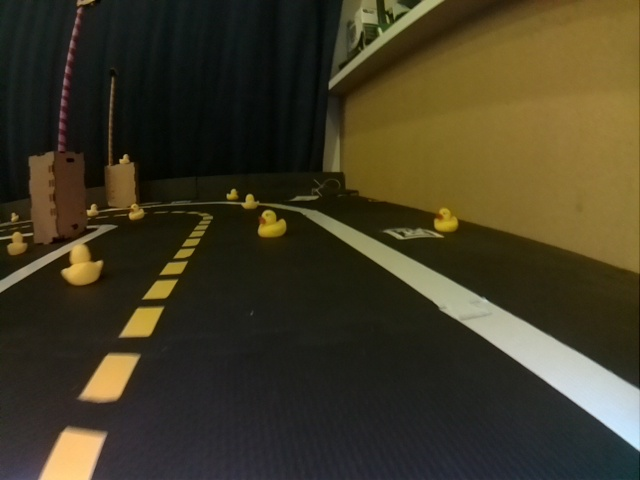Duckie: (63, 245, 102, 285), (258, 210, 286, 237), (434, 209, 458, 229), (7, 233, 27, 255), (241, 195, 260, 209), (129, 204, 143, 219), (227, 189, 237, 199), (87, 205, 97, 214), (122, 155, 130, 164), (11, 215, 20, 222)
QR code: (386, 228, 444, 240)
